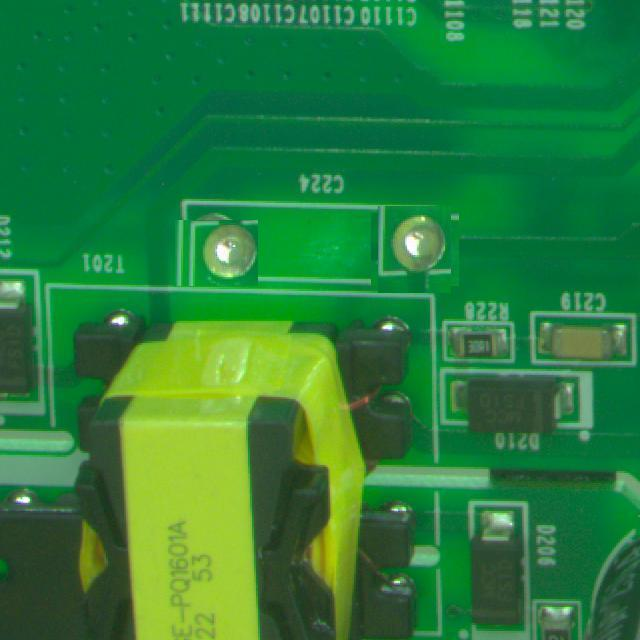lack_of_part: (375, 209, 455, 290), (178, 216, 254, 290)
